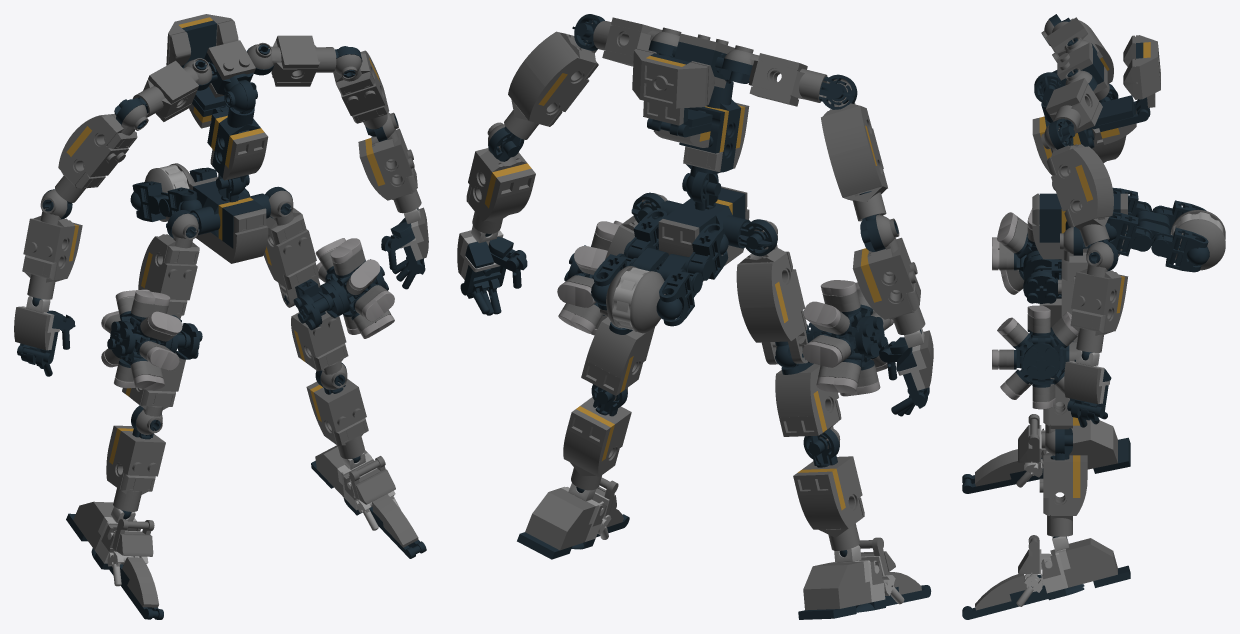
The model's file is exo-00-frame.dae.
3 views of the same model, side by side, from view 1: azimuth 30°, elevation 25°; view 2: azimuth 150°, elevation 25°; view 3: azimuth 270°, elevation 25° (orthographic). The views are drawn at different scales.
Size of the model in its own units: 524 by 287 by 608.
